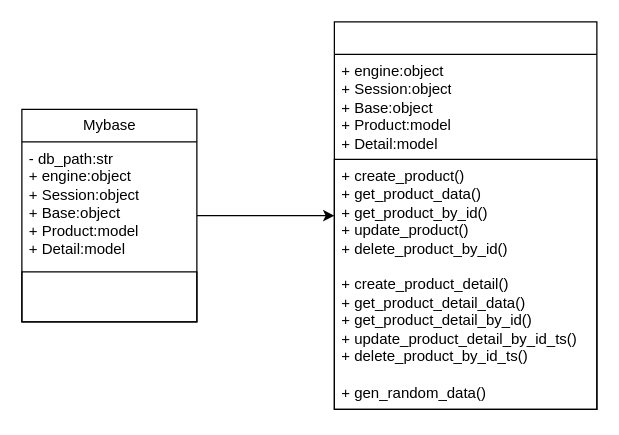
This 619x435 diagram has some shape labels left out. Each missing label, with the box of its shape:
+ create_db() + reset_db(): (21, 271, 197, 322)
ProductHandler: (333, 21, 597, 409)
